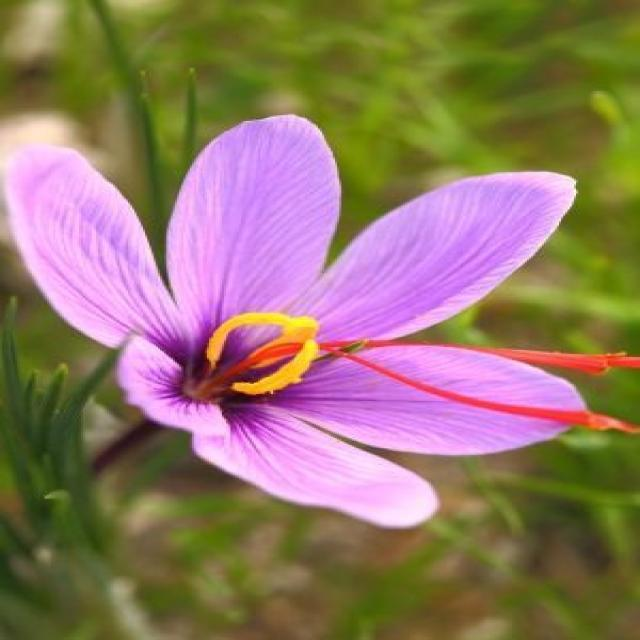Flower: (8, 114, 638, 526)
stigma: (334, 349, 636, 439), (320, 308, 640, 372)
